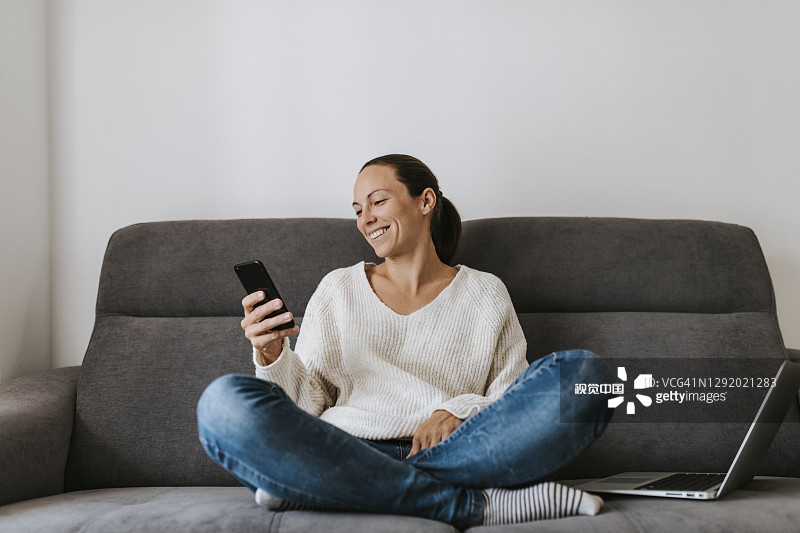reading: (219, 258, 316, 366)
